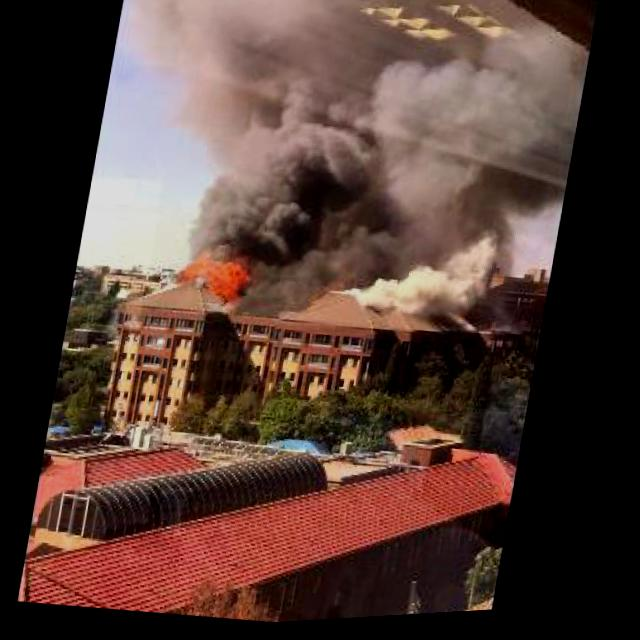no_helmet: (188, 0, 583, 294), (170, 244, 267, 321)
